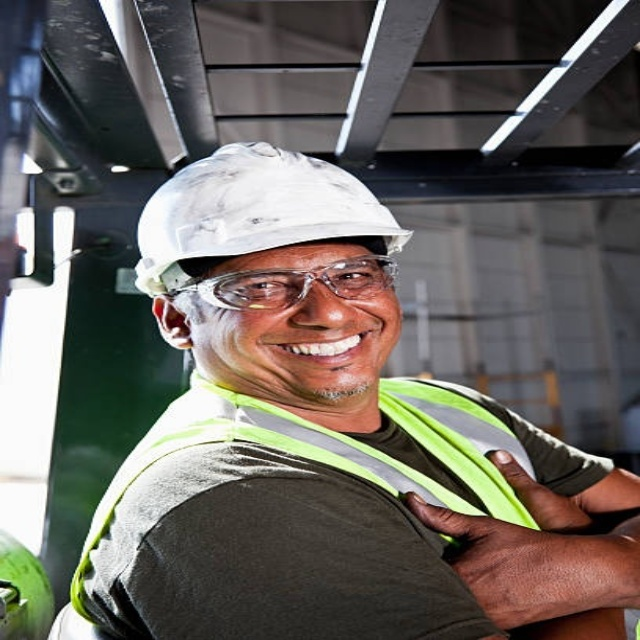Gafas: (184, 255, 405, 315)
Sin_guantes: (398, 459, 637, 635)
Sin_mascara: (245, 324, 383, 389)
